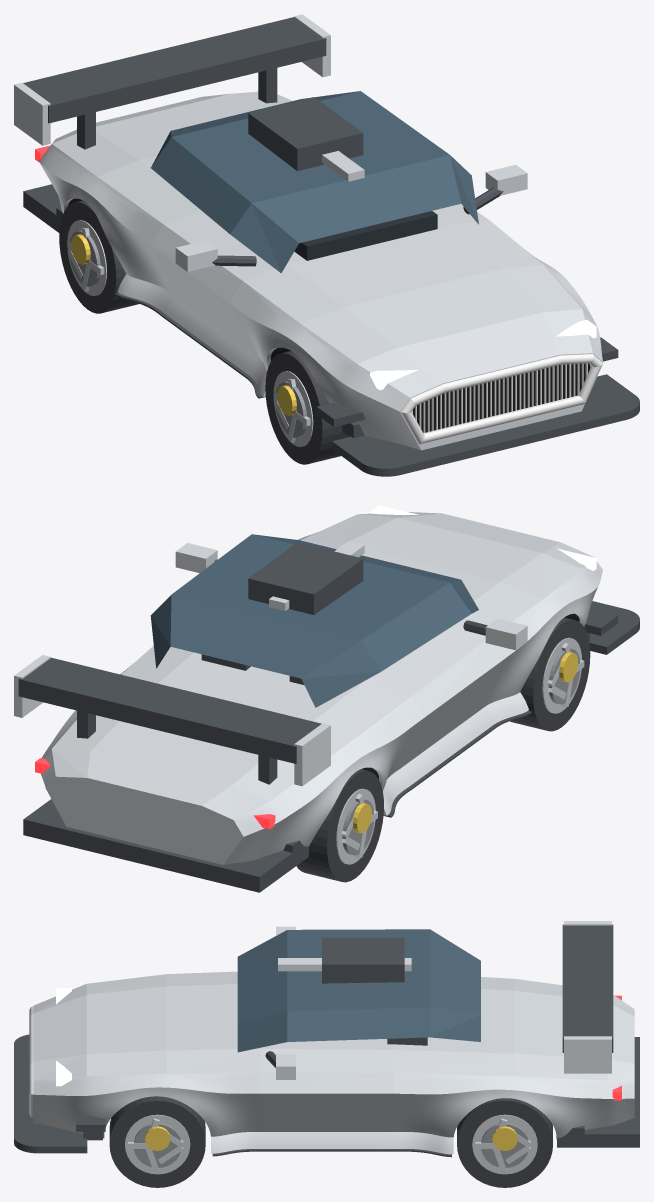
The model's file is proto_corsa_90gt.glb.
3 renders of one model, top to bottom at view 1: azimuth 30°, elevation 25°; view 2: azimuth 150°, elevation 25°; view 3: azimuth 270°, elevation 25°, orthographic. The views are drawn at different scales.
Parts seen in each view (by area): view 1: Sculpted_Main_Body, Panoramic_Glass_Canopy, GT_Rear_Wing, Front_Splitter, Roof_Air_Scoop, Front_Grille_Chrome_Surround, Front_Grille_Vertical_Bars, Front_Grille_Back_Wall, Wheel_FL, Wheel_RL, Dashboard, GT_Wing_Endplate_L (+11 smaller); view 2: Sculpted_Main_Body, Panoramic_Glass_Canopy, GT_Rear_Wing, Rear_Diffuser, Roof_Air_Scoop, Wheel_RL, Wheel_FL, GT_Wing_Endplate_L, Front_Splitter, Mirror_L, Mirror_R, Rim_FL (+7 smaller); view 3: Sculpted_Main_Body, Panoramic_Glass_Canopy, GT_Rear_Wing, Wheel_FR, Wheel_RR, Roof_Air_Scoop, Front_Splitter, Rear_Diffuser, GT_Wing_Endplate_R, Rim_RR, Rim_FR, Disc_FR (+9 smaller).
Boxes of the visible parts, bbox=[...] form: Sculpted_Main_Body: bbox=[39, 91, 602, 450]; Panoramic_Glass_Canopy: bbox=[151, 91, 478, 273]; GT_Rear_Wing: bbox=[23, 17, 326, 123]; Front_Splitter: bbox=[332, 374, 639, 476]; Roof_Air_Scoop: bbox=[248, 97, 363, 171]; Front_Grille_Chrome_Surround: bbox=[401, 354, 602, 444]; Front_Grille_Vertical_Bars: bbox=[411, 363, 591, 432]; Front_Grille_Back_Wall: bbox=[413, 363, 589, 431]; Wheel_FL: bbox=[265, 351, 348, 464]; Wheel_RL: bbox=[59, 200, 139, 313]; Dashboard: bbox=[294, 211, 437, 260]; GT_Wing_Endplate_L: bbox=[14, 83, 50, 145]; Sculpted_Main_Body: bbox=[41, 512, 602, 864]; Panoramic_Glass_Canopy: bbox=[150, 534, 478, 707]; GT_Rear_Wing: bbox=[18, 657, 321, 763]; Rear_Diffuser: bbox=[23, 799, 308, 892]; Roof_Air_Scoop: bbox=[248, 542, 363, 614]; Wheel_RL: bbox=[296, 769, 383, 882]; Wheel_FL: bbox=[510, 617, 590, 731]; GT_Wing_Endplate_L: bbox=[294, 723, 330, 786]; Front_Splitter: bbox=[589, 601, 639, 654]; Mirror_L: bbox=[485, 618, 527, 650]; Mirror_R: bbox=[175, 543, 217, 573]; Rim_FL: bbox=[542, 637, 581, 713]; Sculpted_Main_Body: bbox=[33, 971, 634, 1154]; Panoramic_Glass_Canopy: bbox=[237, 929, 480, 1052]; GT_Rear_Wing: bbox=[562, 924, 613, 1052]; Wheel_FR: bbox=[109, 1096, 205, 1187]; Wheel_RR: bbox=[457, 1098, 552, 1187]; Roof_Air_Scoop: bbox=[322, 937, 404, 983]; Front_Splitter: bbox=[14, 1034, 87, 1153]; Rear_Diffuser: bbox=[557, 1037, 639, 1147]; GT_Wing_Endplate_R: bbox=[564, 1036, 611, 1073]; Rim_RR: bbox=[472, 1114, 537, 1174]; Rim_FR: bbox=[125, 1114, 190, 1174]; Disc_FR: bbox=[134, 1123, 181, 1167].
Size of the model in its own units: 2.48 by 1.5 by 4.68.
